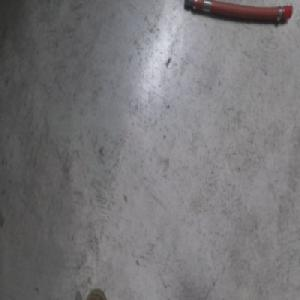Hose: (183, 0, 294, 26)
